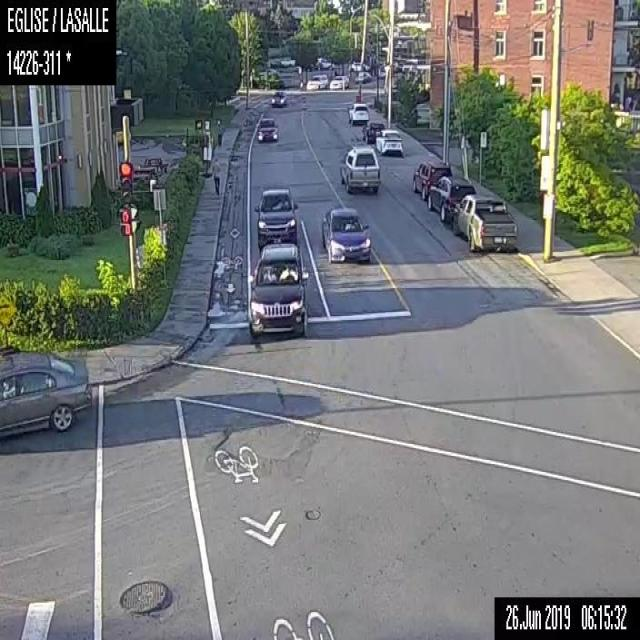pedestrian: (210, 158, 219, 194), (216, 117, 223, 148)
vehicle: (0, 347, 88, 437), (248, 242, 309, 338), (451, 192, 516, 252), (320, 205, 372, 264), (250, 184, 298, 246), (426, 174, 475, 221), (339, 144, 379, 192), (411, 158, 451, 200), (375, 127, 405, 157), (360, 118, 384, 144), (346, 101, 369, 126), (256, 116, 278, 141), (305, 71, 328, 91), (328, 72, 349, 90), (271, 90, 287, 106), (354, 70, 371, 85)
